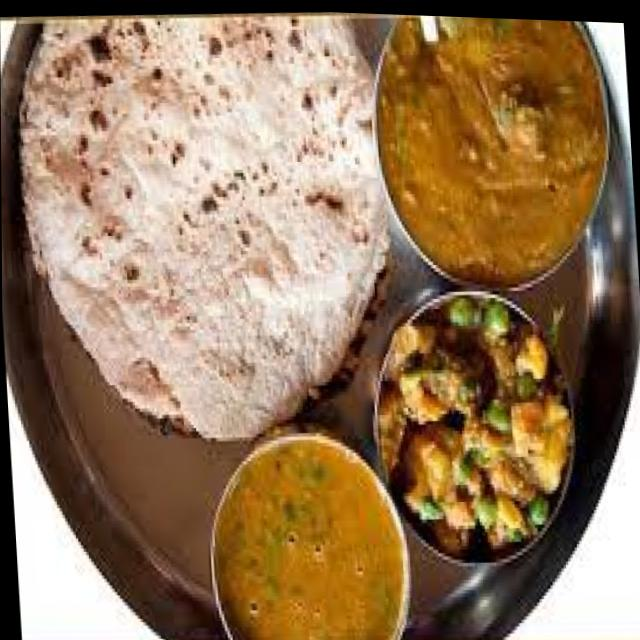CHAPATHI: (17, 15, 389, 441)
